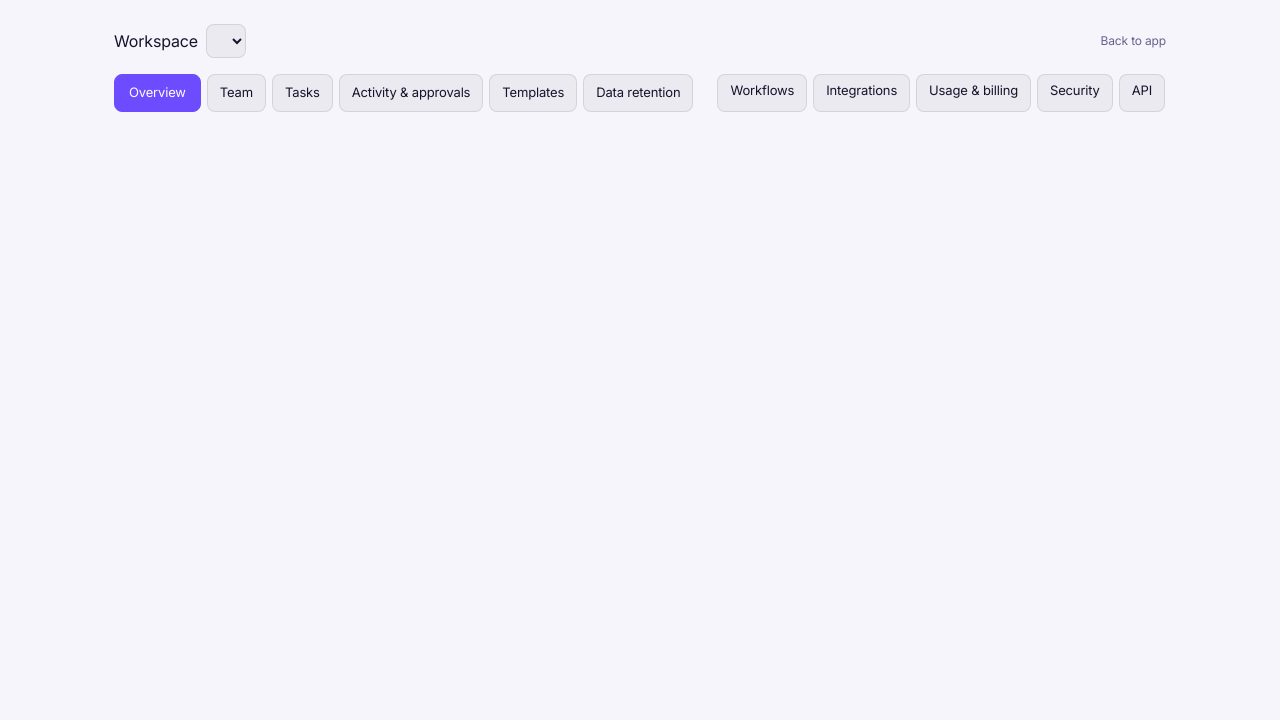
Test: verification email: an unverified user can (re)send it from the join section
This screenshot has width=1280, height=720.
Click the tab "Team" at (236, 93), box [207,74,266,112]
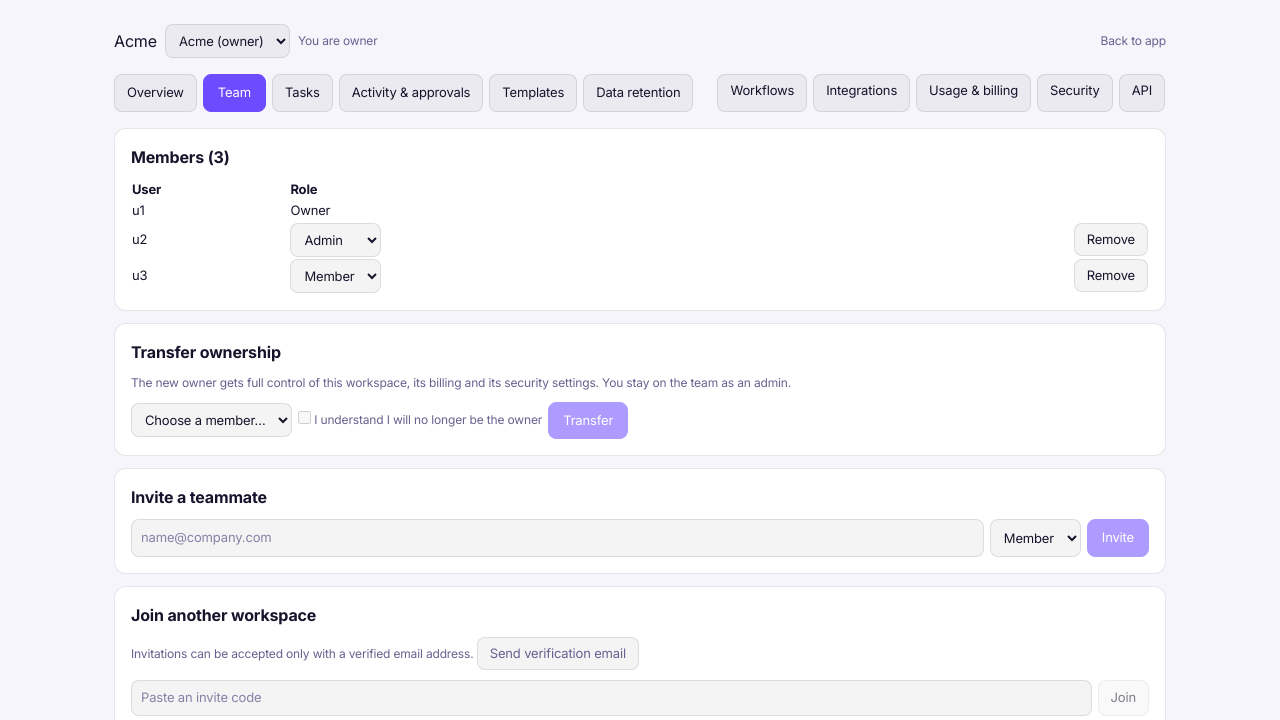
Click the button "Send verification email" at (558, 653), box [477,636,639,670]
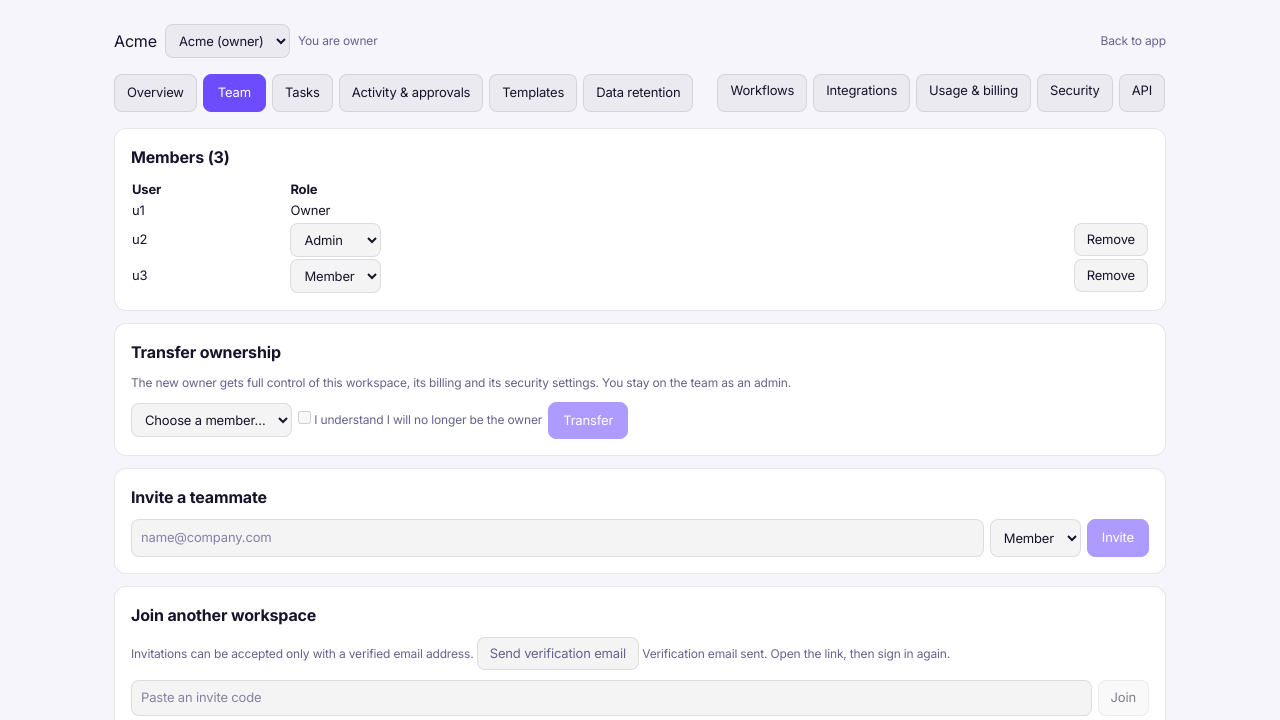
Expected: the text "Verification email sent. Open the link, then sign in again." is shown, [639,646,950,660]
